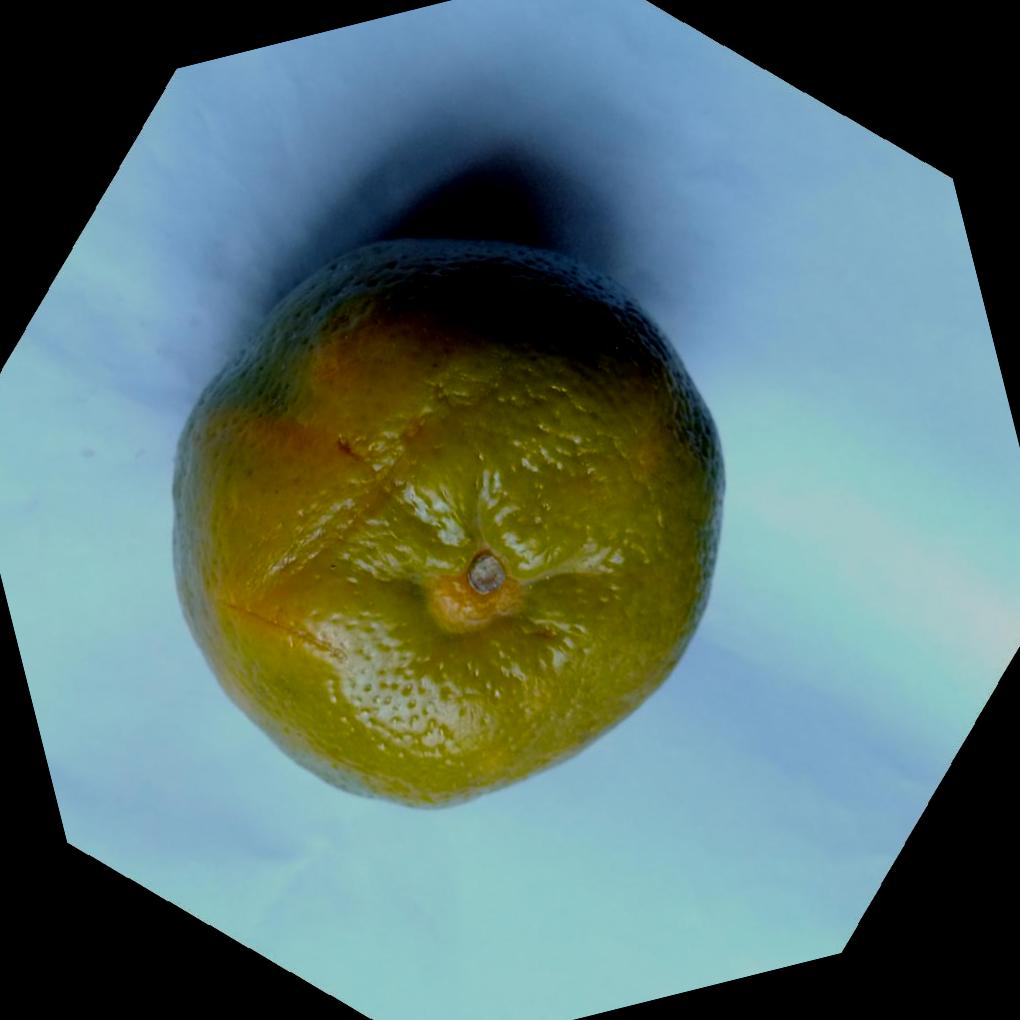FreshGuava: (173, 233, 731, 810)
